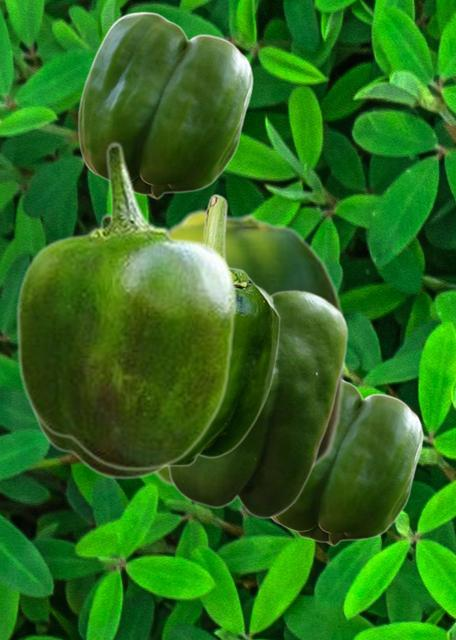bell_pepper: (15, 141, 237, 471), (153, 208, 346, 487), (168, 286, 348, 518), (28, 213, 168, 479), (77, 11, 252, 198), (170, 193, 279, 466), (271, 380, 422, 545)
